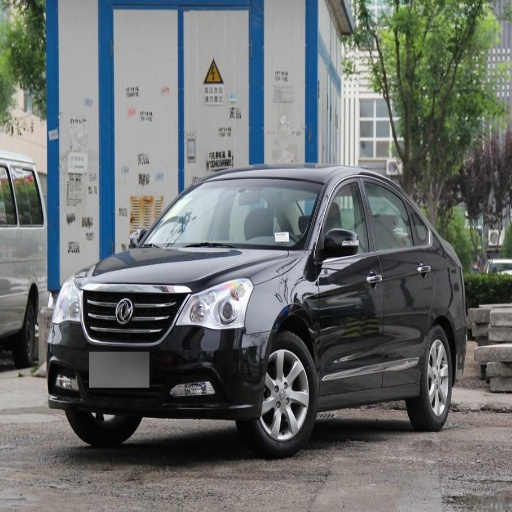front_bumper: (45, 280, 277, 421)
front_glass: (139, 178, 321, 250)
front_left_door: (312, 175, 385, 394)
